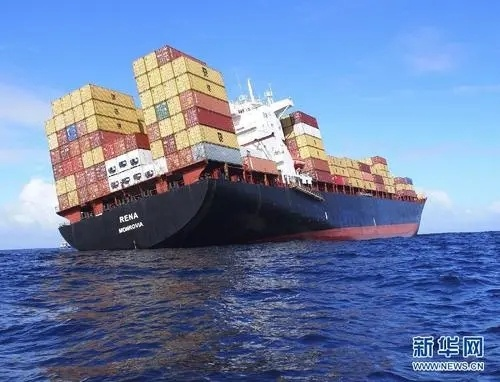Cargoship: (39, 44, 429, 248)
